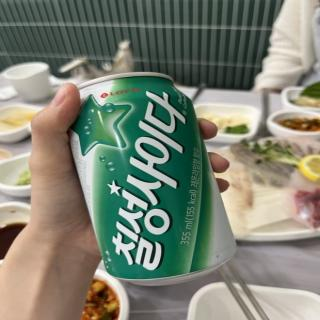cocacola: (68, 69, 240, 288)
